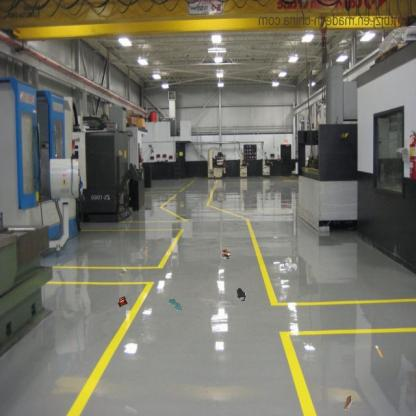dirty: (281, 255, 299, 273), (342, 394, 356, 411), (220, 246, 233, 261), (116, 294, 129, 309), (123, 404, 138, 415), (117, 266, 127, 278), (374, 344, 383, 357)
liquid: (168, 298, 182, 312), (236, 287, 246, 301)
